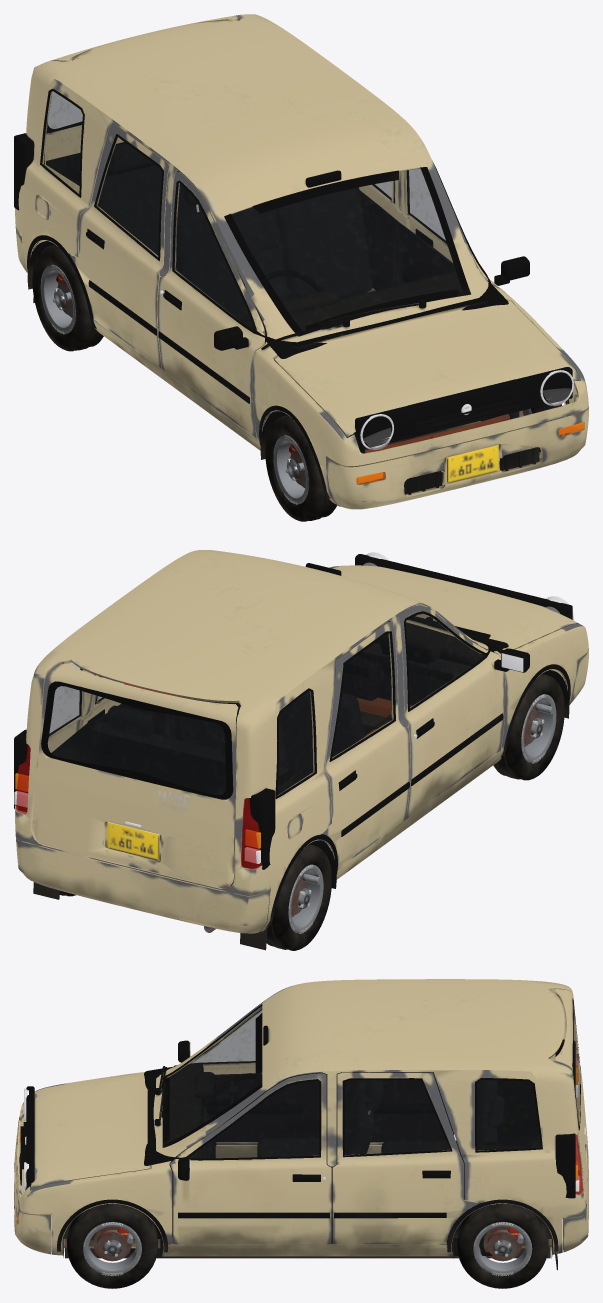
File: mame.glb
The picture shows the model from 3 angles, top to bottom: view 1: azimuth 30°, elevation 25°; view 2: azimuth 150°, elevation 25°; view 3: azimuth 270°, elevation 25°; orthographic projection. The views are drawn at different scales.
Visible parts, largest first — view 1: Body, Glass_Windshield, Hood, Door_FR, Bumper_F, Door_RR, Glass_Door_RR, Wheel_FR, Wheel_RR, Glass_Door_FR, Door_FL, Door_RL (+6 smaller); view 2: Body, Trunk, Glass_RearWindow, Door_FR, Door_RR, Bumper_R, Hood, Wheel_RR, Wheel_FR, Glass_Door_RR, Glass_Door_FR, Glass_QuarterGlassR (+5 smaller); view 3: Body, Door_FL, Door_RL, Hood, Glass_Door_RL, Glass_Windshield, Wheel_RL, Wheel_FL, Door_FR, Glass_Door_FL, Glass_QuarterGlassL, Door_RR (+4 smaller).
Boxes of the visible parts, x1,y1,x2,y2 form: Body: (14, 14, 588, 506); Glass_Windshield: (231, 168, 463, 330); Hood: (274, 300, 579, 437); Door_FR: (157, 171, 268, 438); Bumper_F: (326, 395, 588, 509); Door_RR: (70, 123, 169, 368); Glass_Door_RR: (96, 137, 161, 256); Wheel_FR: (265, 415, 337, 521); Wheel_RR: (32, 245, 103, 351); Glass_Door_FR: (175, 183, 254, 330); Door_FL: (395, 162, 501, 289); Door_RL: (359, 180, 407, 290); Body: (14, 550, 588, 950); Trunk: (32, 663, 238, 888); Glass_RearWindow: (48, 686, 225, 795); Door_FR: (398, 605, 505, 818); Door_RR: (321, 621, 410, 868); Bumper_R: (16, 838, 270, 933); Hood: (331, 565, 578, 649); Wheel_RR: (266, 844, 331, 950); Wheel_FR: (493, 674, 564, 780); Glass_Door_RR: (332, 633, 393, 757); Glass_Door_FR: (406, 614, 484, 707); Glass_QuarterGlassR: (278, 691, 314, 794); Body: (16, 979, 587, 1270); Door_FL: (170, 1073, 332, 1244); Door_RL: (331, 1072, 479, 1244); Hood: (31, 1072, 150, 1189); Glass_Door_RL: (344, 1080, 450, 1155); Glass_Windshield: (164, 1006, 261, 1143); Wheel_RL: (457, 1203, 548, 1288); Wheel_FL: (67, 1203, 157, 1288); Door_FR: (174, 1007, 327, 1144); Glass_Door_FL: (189, 1081, 319, 1158); Glass_QuarterGlassL: (477, 1080, 540, 1150); Door_RR: (336, 1072, 452, 1144).
Size of what is drawn, in the model's own units: 1.81 by 1.47 by 3.43.
2 materials, 2 textured.
